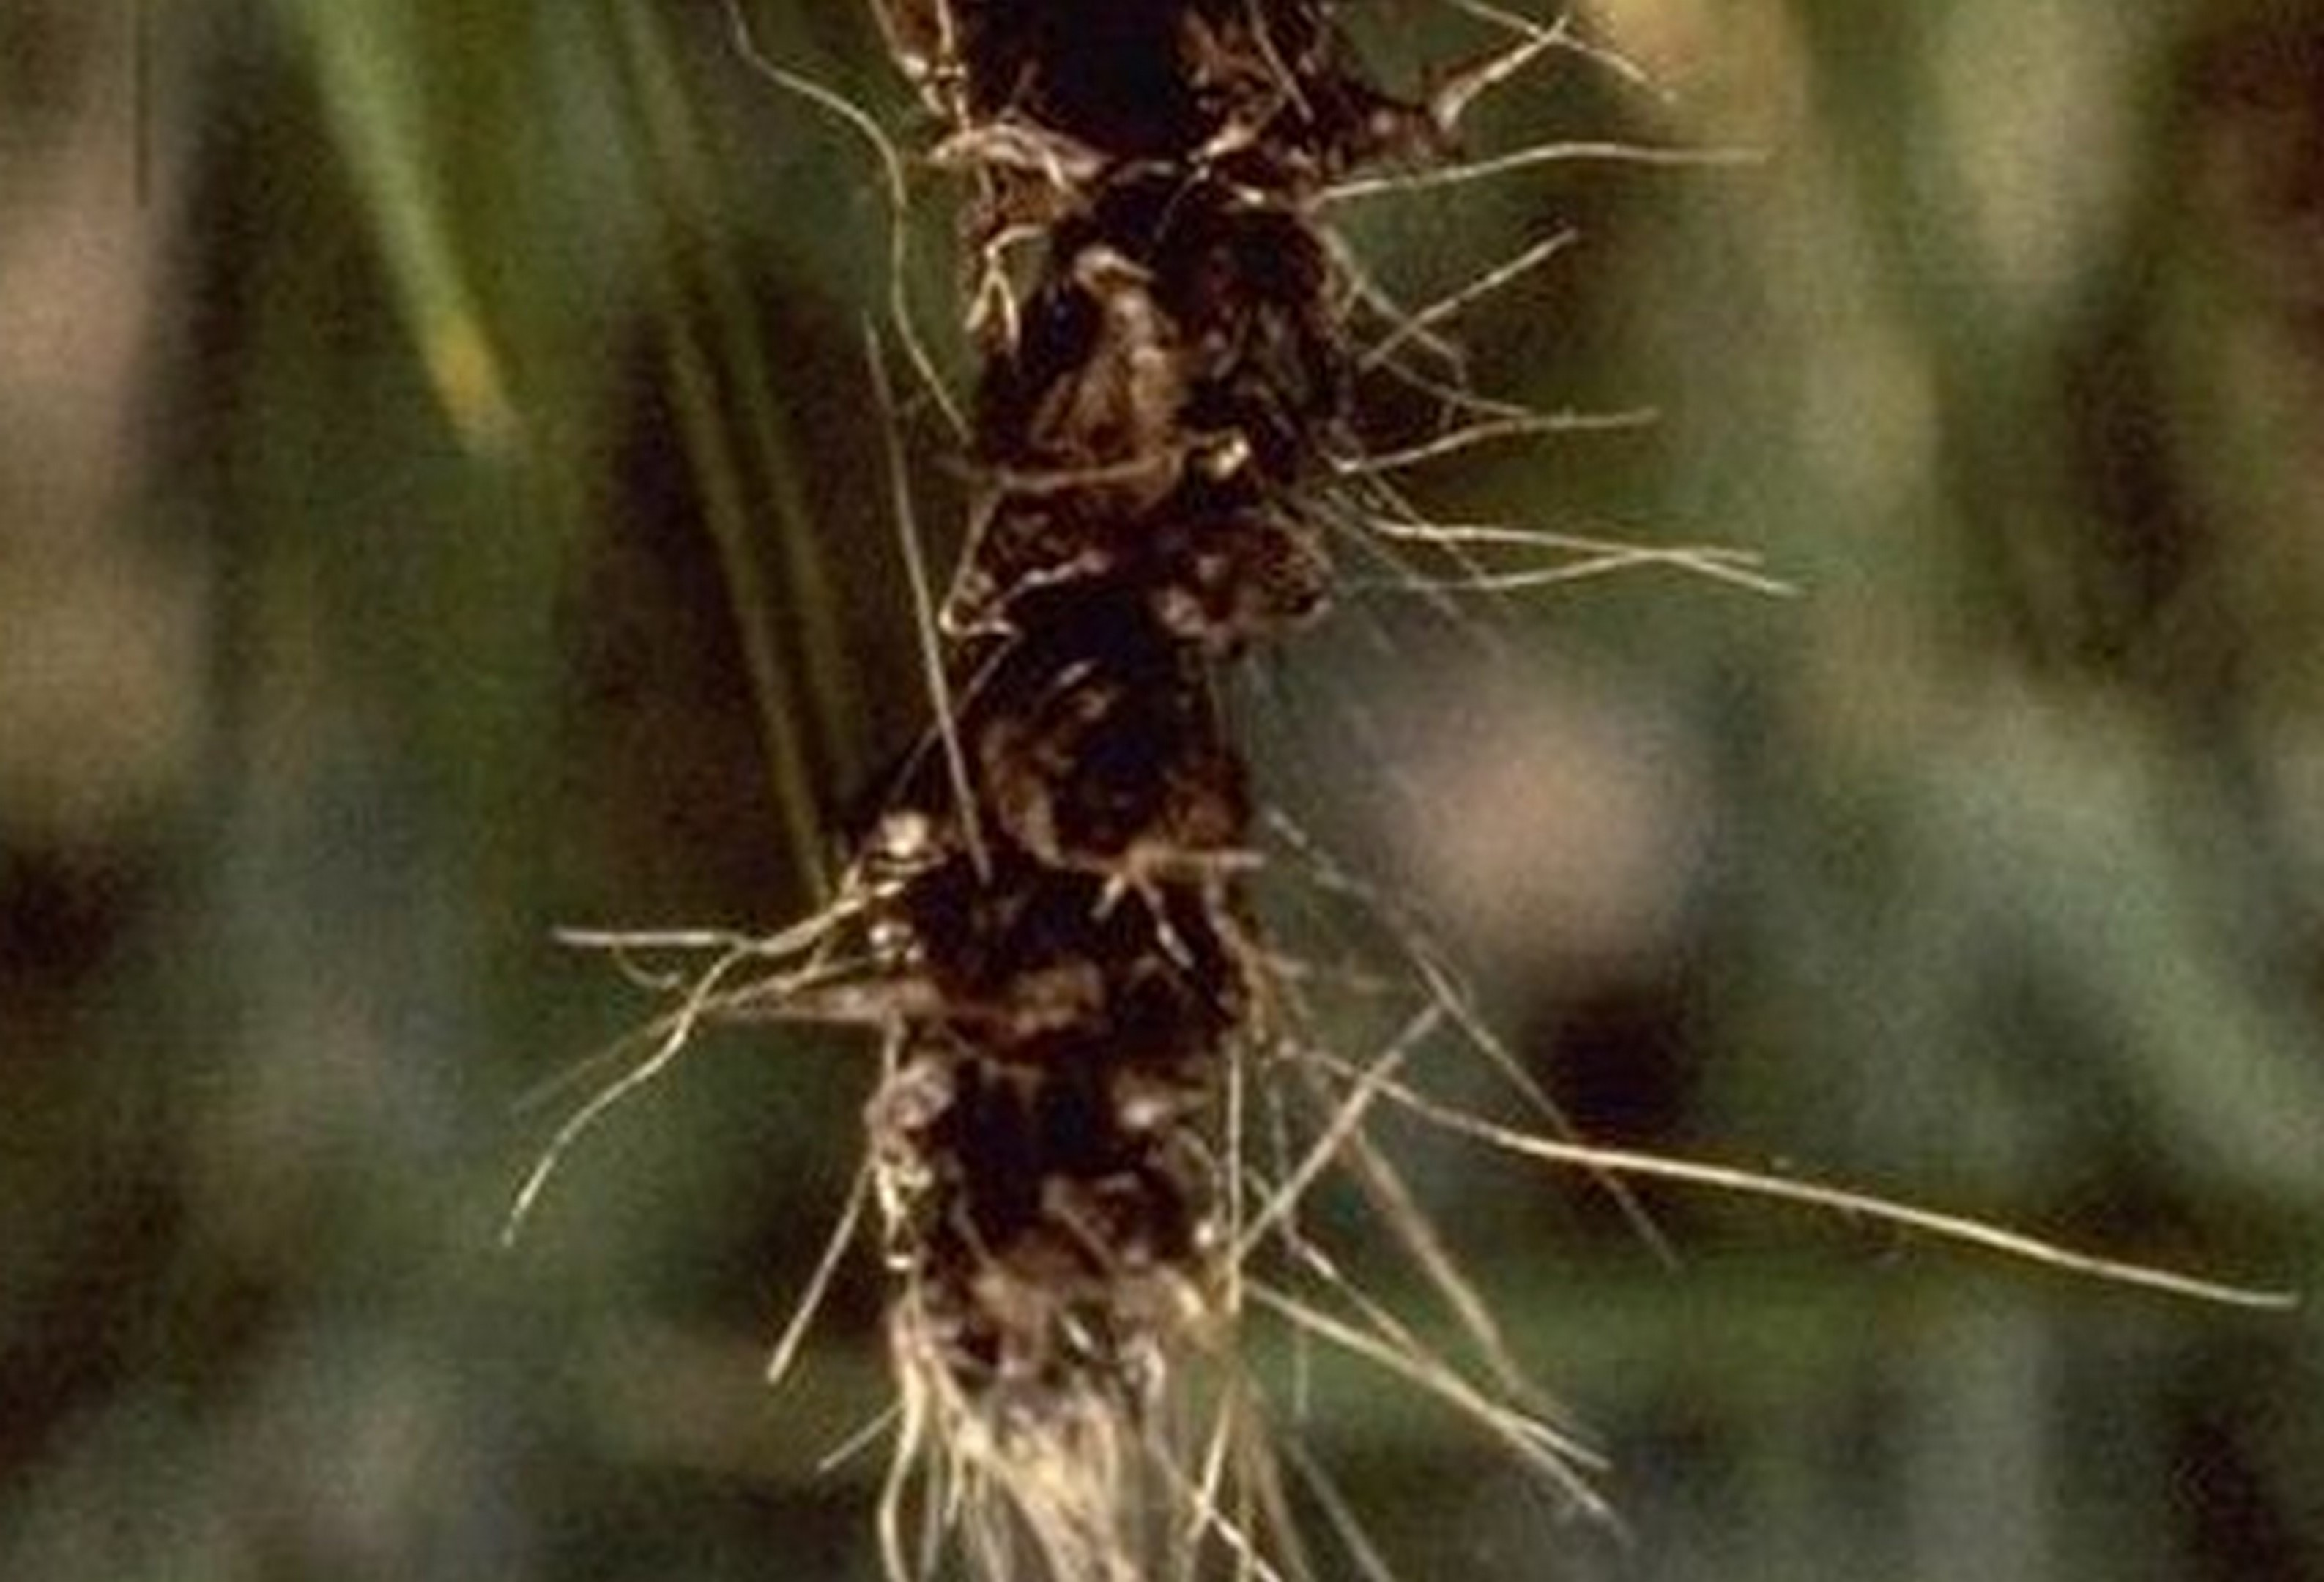Wheat Loose Smut: (835, 2, 1399, 1363)
